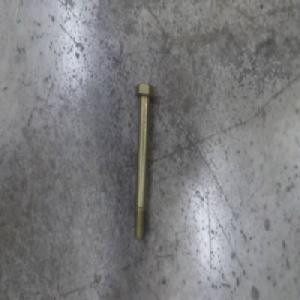Bolt: (133, 80, 155, 245)
